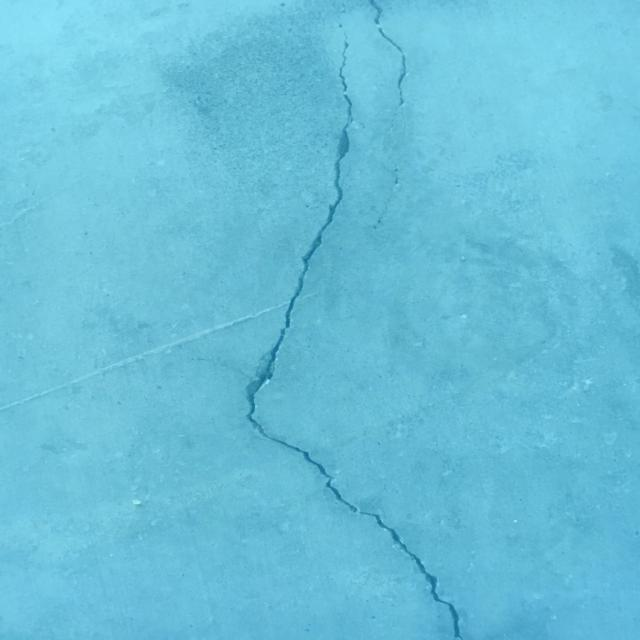crack: (244, 19, 464, 640), (368, 0, 406, 105)
